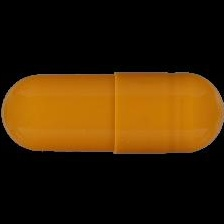68788-6380: (0, 0, 224, 224)
